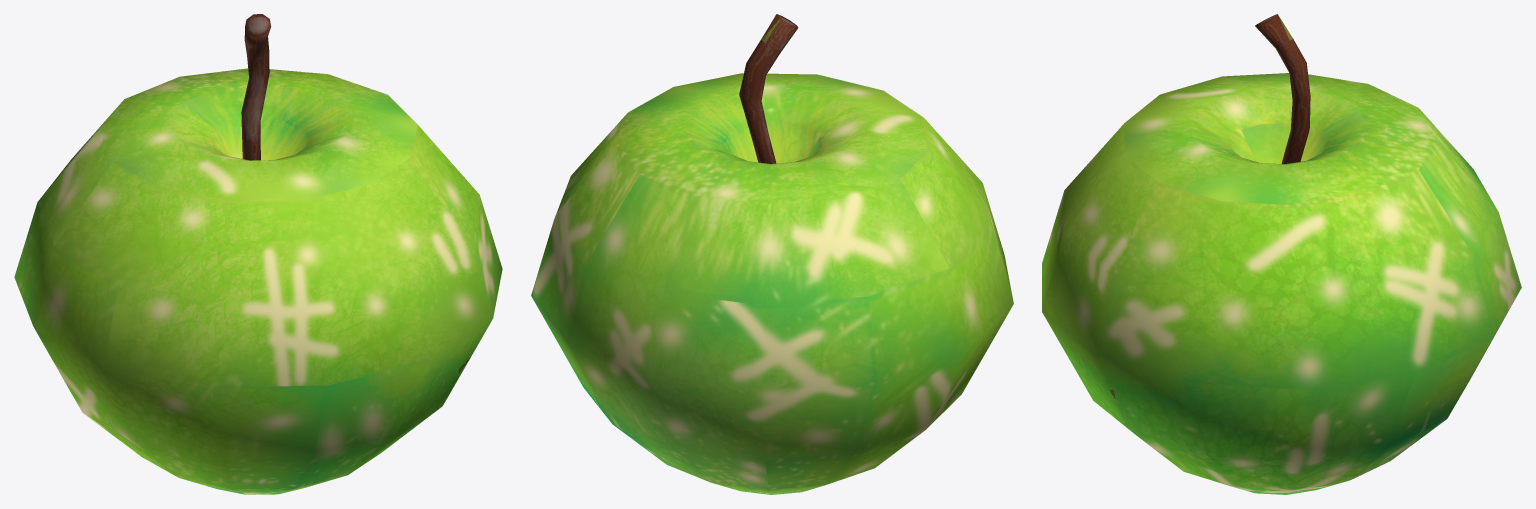
File: 003_Candy_Apple.fbx
The picture shows the model from 3 angles, left to right: view 1: azimuth 30°, elevation 25°; view 2: azimuth 150°, elevation 25°; view 3: azimuth 270°, elevation 25°; orthographic projection.
Parts seen in each view (by area): view 1: AppleGreen; view 2: AppleGreen; view 3: AppleGreen.
Boxes of the visible parts, x1=… form: AppleGreen: x1=14, y1=14, x2=502, y2=494; AppleGreen: x1=531, y1=14, x2=1013, y2=494; AppleGreen: x1=1042, y1=14, x2=1521, y2=494.
Bounding box in the file's own units: 39.14 × 40.23 × 38.85.
